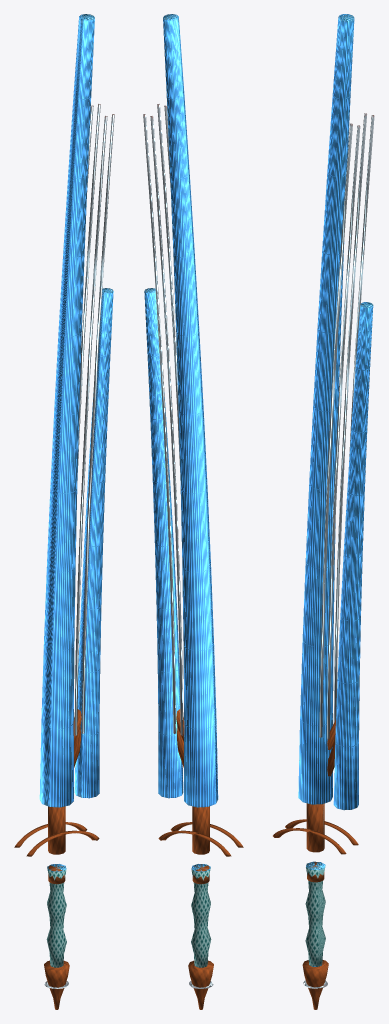
File: sword_09_twin_monsoon.glb
The picture shows the model from 3 angles, left to right: view 1: azimuth 30°, elevation 25°; view 2: azimuth 150°, elevation 25°; view 3: azimuth 330°, elevation 25°; orthographic projection.
Visible parts, largest first — view 1: Blade_MonsoonMain, Blade_MonsoonTwin, Inlay_RainGrooves, Grip_StormBraid, Core_StormEye, Pommel_StormOrb, Guard_MonsoonCrescent, Fork_TwinSplit; view 2: Blade_MonsoonMain, Blade_MonsoonTwin, Inlay_RainGrooves, Grip_StormBraid, Core_StormEye, Pommel_StormOrb, Guard_MonsoonCrescent, Fork_TwinSplit; view 3: Blade_MonsoonMain, Blade_MonsoonTwin, Inlay_RainGrooves, Grip_StormBraid, Core_StormEye, Pommel_StormOrb, Guard_MonsoonCrescent, Fork_TwinSplit.
Part boxes in pixels (<box>): Blade_MonsoonMain: <box>39,14,94,807</box>; Blade_MonsoonTwin: <box>74,288,113,798</box>; Inlay_RainGrooves: <box>74,104,114,735</box>; Grip_StormBraid: <box>46,864,66,967</box>; Core_StormEye: <box>48,806,65,854</box>; Pommel_StormOrb: <box>44,960,69,1009</box>; Guard_MonsoonCrescent: <box>14,822,99,856</box>; Fork_TwinSplit: <box>73,709,81,767</box>; Blade_MonsoonMain: <box>163,14,218,807</box>; Blade_MonsoonTwin: <box>144,288,183,798</box>; Inlay_RainGrooves: <box>143,104,183,735</box>; Grip_StormBraid: <box>191,864,211,967</box>; Core_StormEye: <box>192,806,209,854</box>; Pommel_StormOrb: <box>188,960,213,1009</box>; Guard_MonsoonCrescent: <box>158,822,243,856</box>; Fork_TwinSplit: <box>176,709,184,767</box>; Blade_MonsoonMain: <box>298,14,354,804</box>; Blade_MonsoonTwin: <box>333,302,373,810</box>; Inlay_RainGrooves: <box>319,113,374,739</box>; Grip_StormBraid: <box>305,861,325,966</box>; Core_StormEye: <box>306,803,324,852</box>; Pommel_StormOrb: <box>302,960,328,1009</box>; Guard_MonsoonCrescent: <box>273,819,358,854</box>; Fork_TwinSplit: <box>327,719,335,776</box>.
Bounding box in the file's own units: 0.2555 × 2.6 × 0.0783.
1 material, 1 textured.
